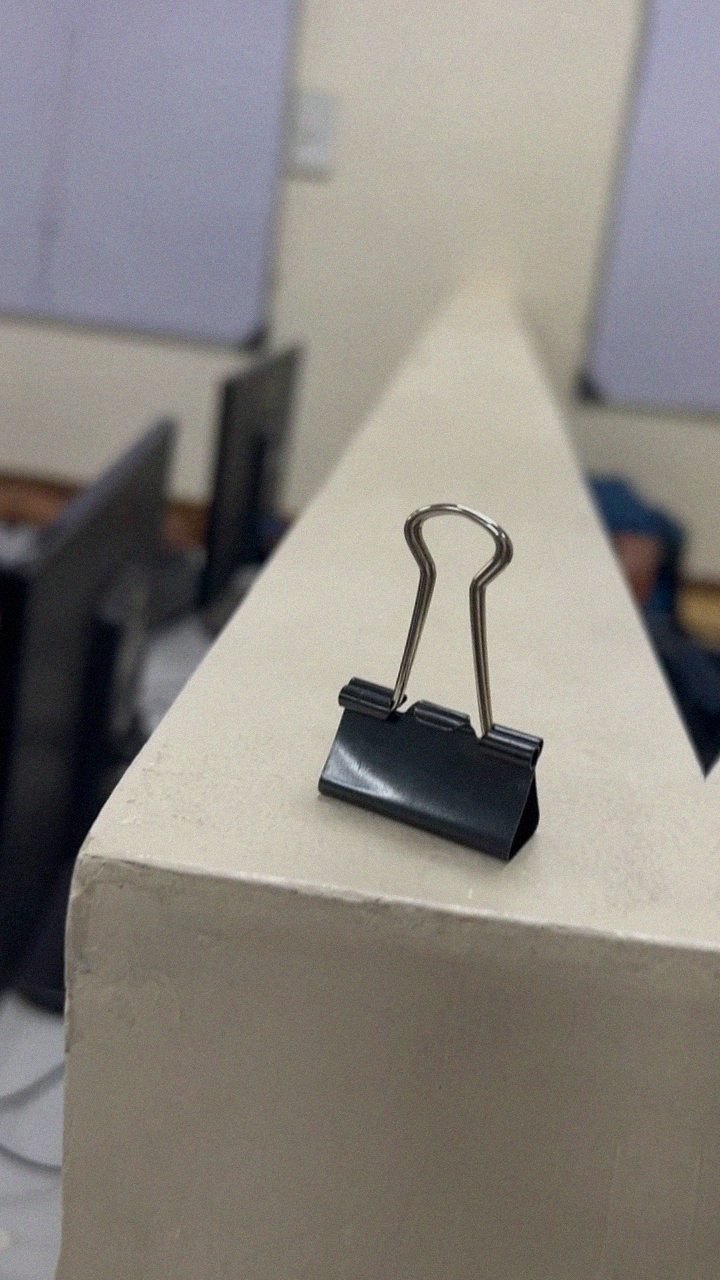kep_giay: (308, 486, 584, 863)
